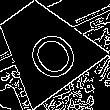O_NW: (11, 14, 78, 80)
